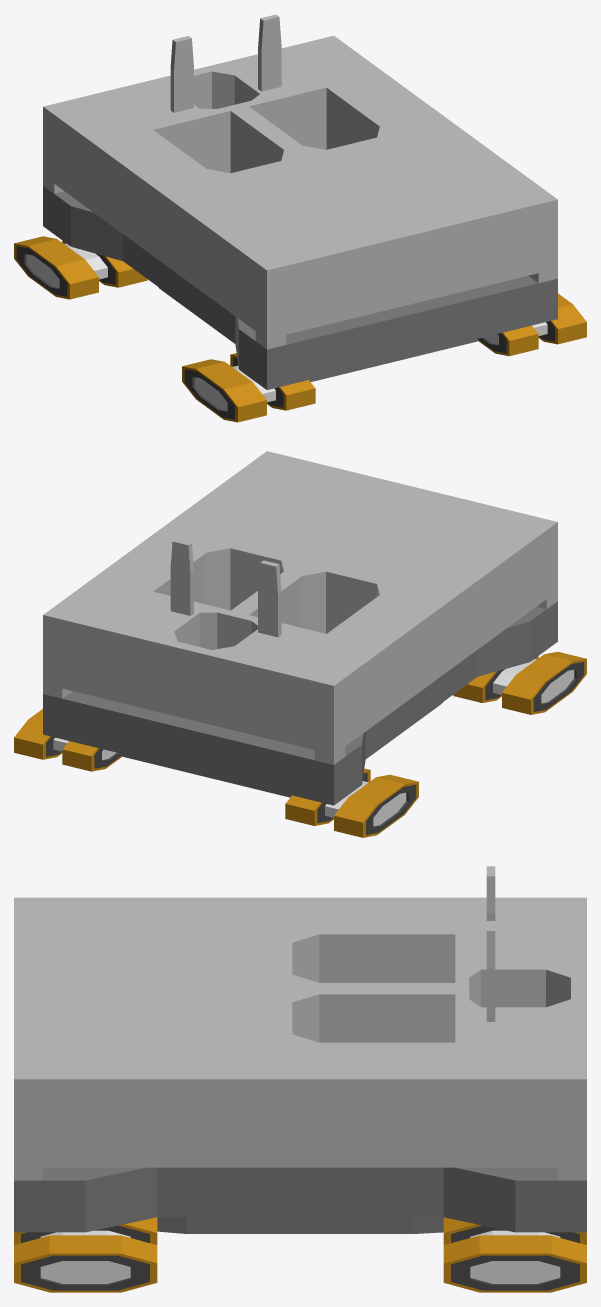
File: Crawler and MLP.fbx
The picture shows the model from 3 angles, top to bottom: view 1: azimuth 30°, elevation 25°; view 2: azimuth 150°, elevation 25°; view 3: azimuth 270°, elevation 25°; orthographic projection. The views are drawn at different scales.
Visible parts, largest first — view 1: Crawler and MLP; view 2: Crawler and MLP; view 3: Crawler and MLP.
Boxes of the visible parts, x1,y1,x2,y2 form: Crawler and MLP: (14,14,586,422); Crawler and MLP: (14,451,586,837); Crawler and MLP: (14,866,586,1292).
Bounding box in the file's own units: 720 × 439 × 800.
